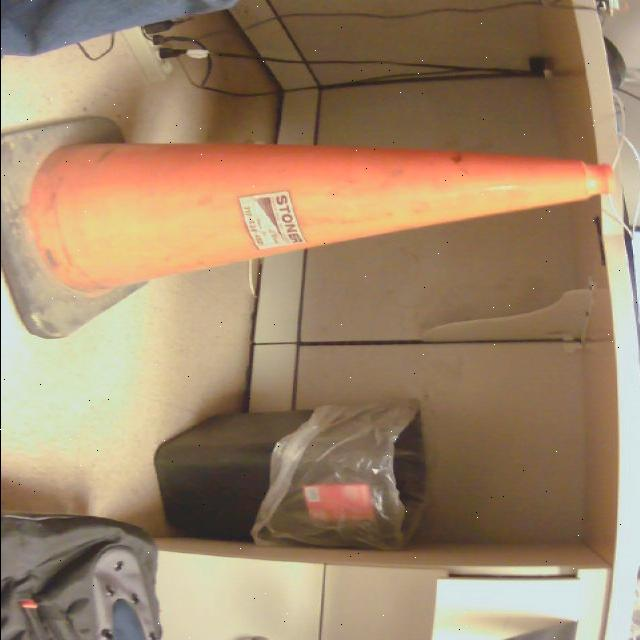traffic cone: (1, 101, 624, 355)
